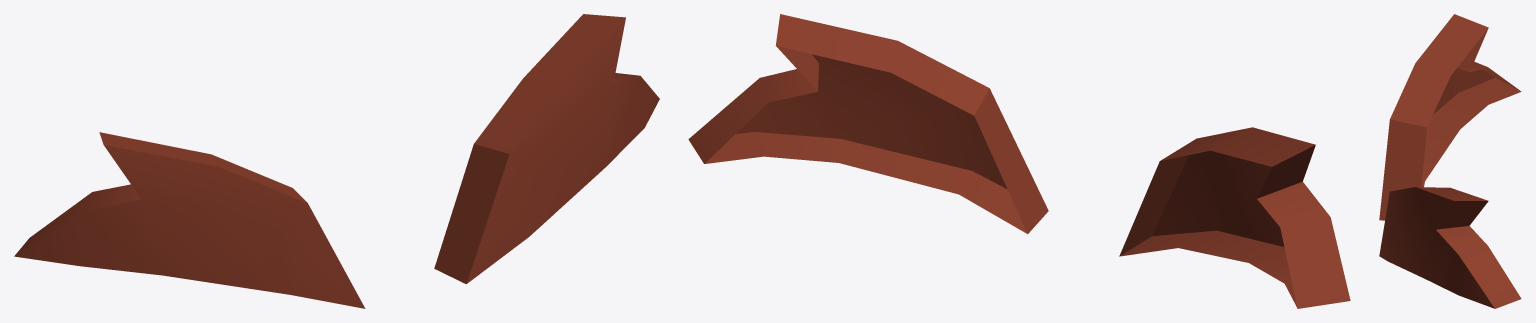
File: Brow_Brown_6.fbx
3 renders of one model, left to right at view 1: azimuth 30°, elevation 25°; view 2: azimuth 150°, elevation 25°; view 3: azimuth 270°, elevation 25°, orthographic. The views are drawn at different scales.
Visible parts, largest first — view 1: Brow_Brown_6; view 2: Brow_Brown_6; view 3: Brow_Brown_6.
Boxes of the visible parts, bbox=[...] form: Brow_Brown_6: bbox=[14, 14, 659, 308]; Brow_Brown_6: bbox=[688, 14, 1350, 308]; Brow_Brown_6: bbox=[1379, 14, 1521, 308].
Bounding box in the file's own units: 40.86 × 10.89 × 10.63.
